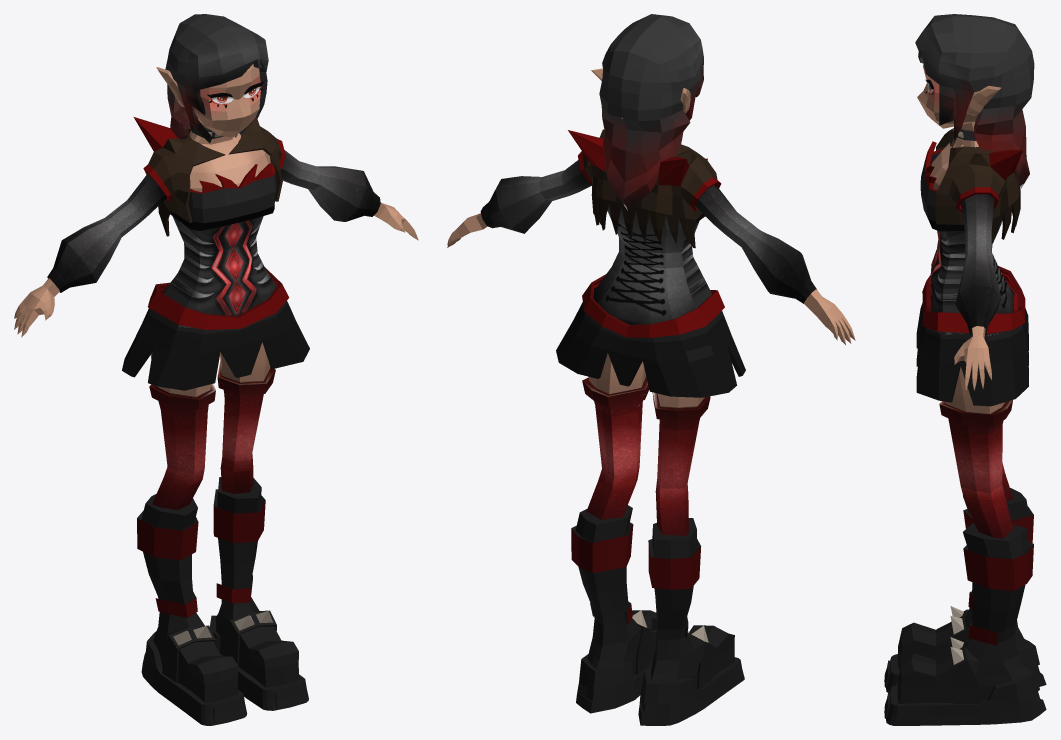
The model's file is arabella.fbx.
The picture shows the model from 3 angles, left to right: view 1: azimuth 30°, elevation 25°; view 2: azimuth 150°, elevation 25°; view 3: azimuth 270°, elevation 25°; orthographic projection. The views are drawn at different scales.
Visible parts, largest first — view 1: cuerpo, zapatos, Cube.007, cabello, capa, top, cabeza, manos; view 2: cuerpo, zapatos, cabello, Cube.007, capa, manos; view 3: zapatos, cuerpo, cabello, Cube.007, capa, manos, top, cabeza, orejas.
Part boxes in pixels (x1,y1,x2,y2): cuerpo: (47,122,380,509); zapatos: (137,477,308,725); Cube.007: (122,267,309,390); cabello: (165,14,268,143); capa: (133,117,285,236); top: (170,163,276,230); cabeza: (194,64,261,137); manos: (14,202,418,337); cuerpo: (480,160,816,535); zapatos: (571,505,744,725); cabello: (599,14,703,211); Cube.007: (556,274,745,397); capa: (568,129,721,248); manos: (447,213,855,344); zapatos: (884,488,1046,725); cuerpo: (930,122,1013,538); cabello: (915,14,1034,189); Cube.007: (916,266,1028,406); capa: (936,128,1022,240); manos: (954,326,991,390); top: (920,141,964,231); cabeza: (917,64,977,128); orejas: (966,86,1000,115).
Bounding box in the file's own units: 114 × 181 × 39.04.
5 materials, 5 textured.
